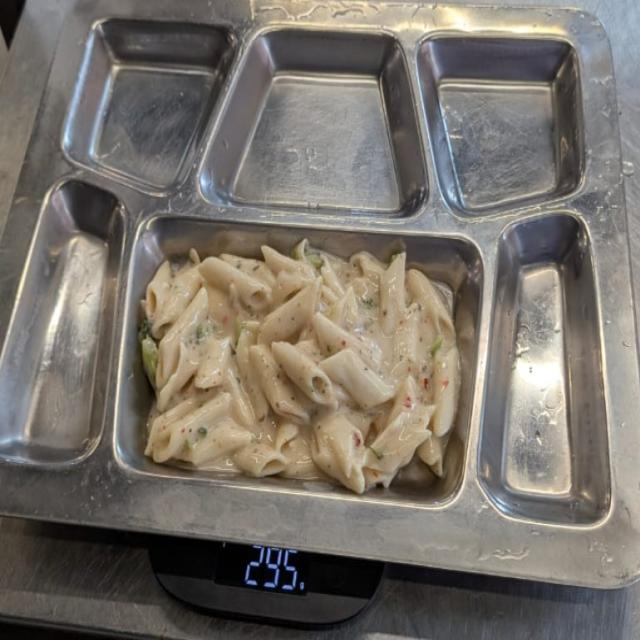Pasta: (140, 231, 466, 494)
